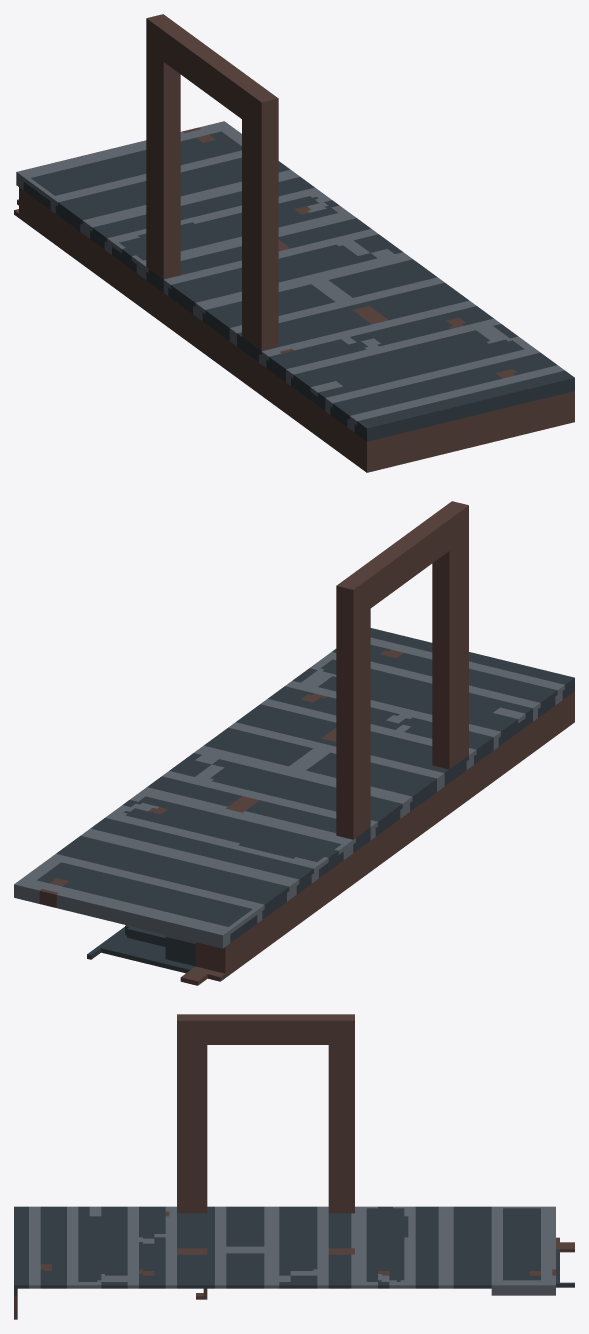
The model's file is Sunkent City - Player House-5-front.obj.
3 renders of one model, top to bottom at view 1: azimuth 30°, elevation 25°; view 2: azimuth 150°, elevation 25°; view 3: azimuth 270°, elevation 25°, orthographic. The views are drawn at different scales.
Visible parts, largest first — view 1: front; view 2: front; view 3: front.
Boxes of the visible parts, x1=… form: front: x1=14, y1=14, x2=574, y2=472; front: x1=14, y1=501, x2=574, y2=985; front: x1=14, y1=1014, x2=574, y2=1319.
Size of the model in its own units: 4.9 by 6.6 by 14.8.
Materials: 1 (1 with a texture image).
